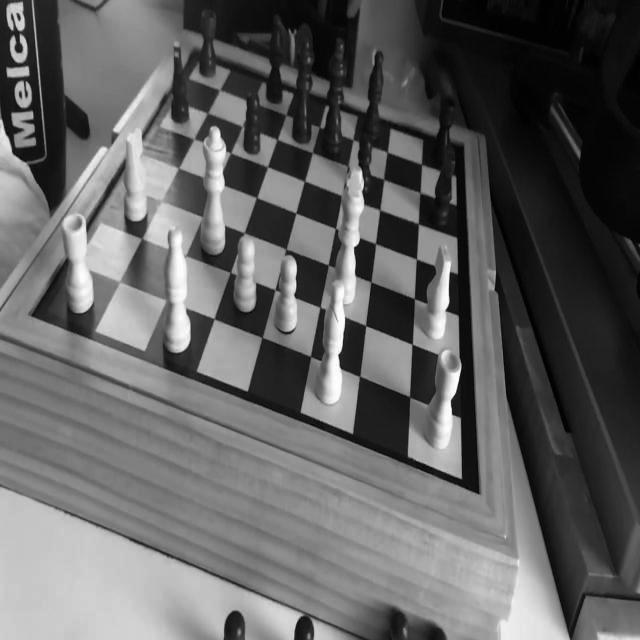chess-table-corners: (462, 476, 488, 508), (21, 298, 43, 332), (453, 128, 473, 164), (186, 34, 202, 62)
